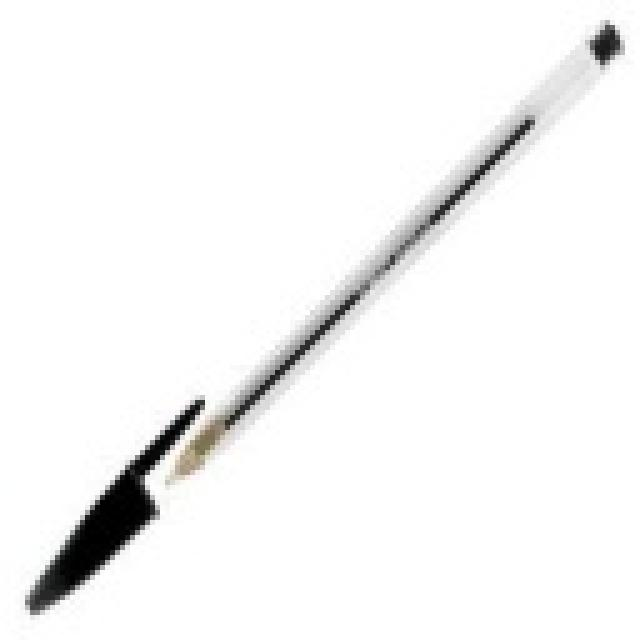pen: (27, 14, 635, 615)
